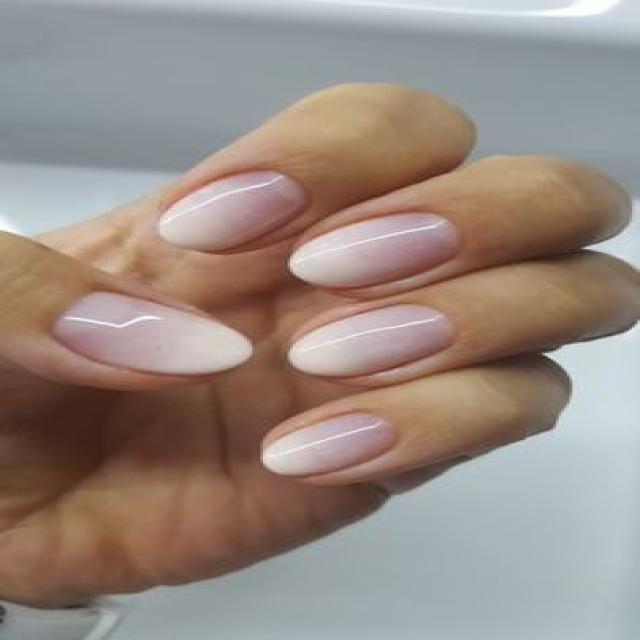Fingernail: (52, 289, 255, 375), (289, 211, 465, 288), (289, 303, 459, 376), (159, 170, 307, 251), (261, 410, 399, 477)
